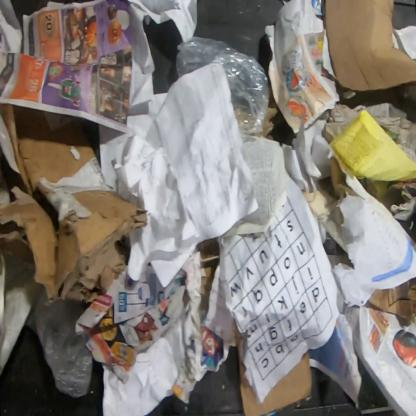cardboard: (0, 103, 149, 306), (324, 0, 415, 94), (237, 349, 313, 415), (368, 275, 415, 323)
soft_plastic: (174, 37, 270, 135), (26, 287, 94, 398)
